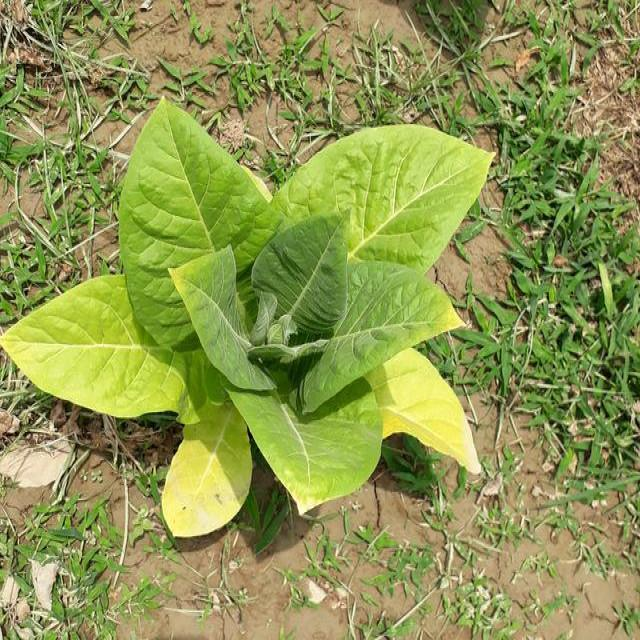crop: (0, 93, 499, 542)
